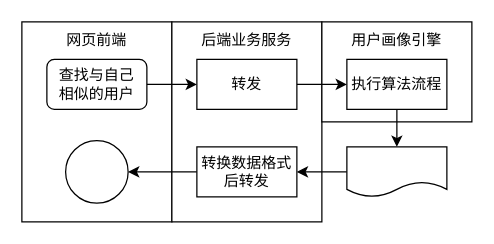
This 494x244 diagram has some shape labels left out. The shapes that lost their labels are listed below. From the top down, each one's box as (x1, y1, x2, y2) in pixels, then its label:
(64, 139, 128, 203): 返回
(346, 146, 447, 197): 用户信息列表
